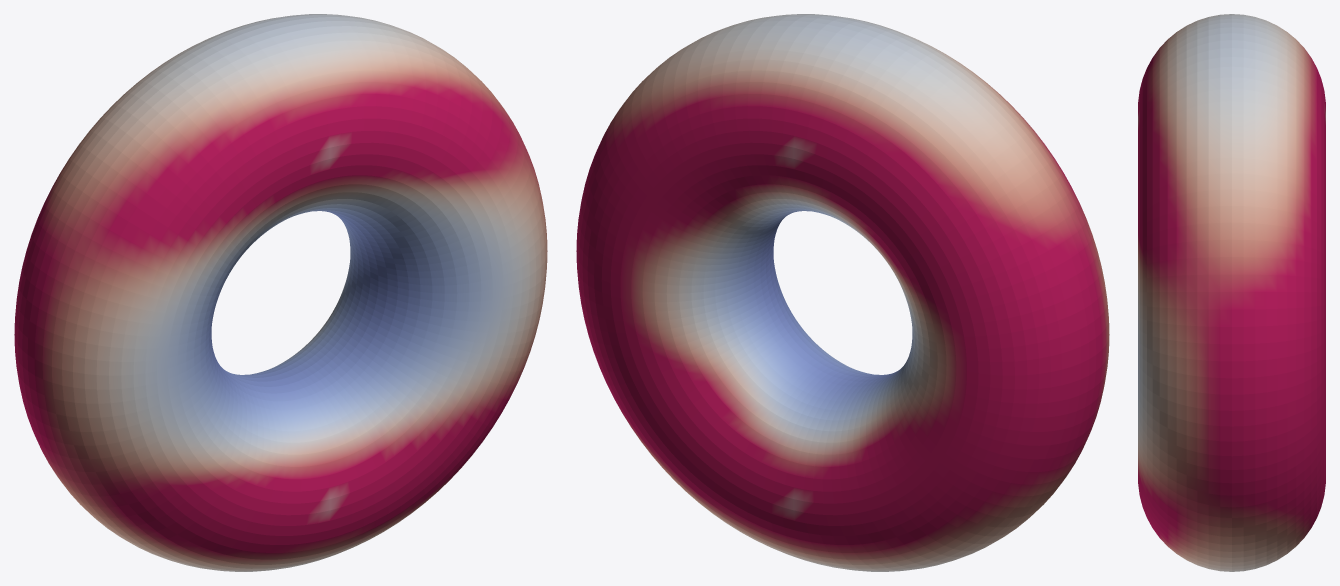
3 views of the same model, side by side, from view 1: azimuth 30°, elevation 25°; view 2: azimuth 150°, elevation 25°; view 3: azimuth 270°, elevation 25° (orthographic). The views are drawn at different scales.
Parts seen in each view (by area): view 1: world; view 2: world; view 3: world.
Part boxes in pixels (<box>): world: <box>14,14,547,571</box>; world: <box>576,14,1109,571</box>; world: <box>1138,14,1325,571</box>.
Size of the model in its own units: 24.13 by 24.13 by 8.12.
